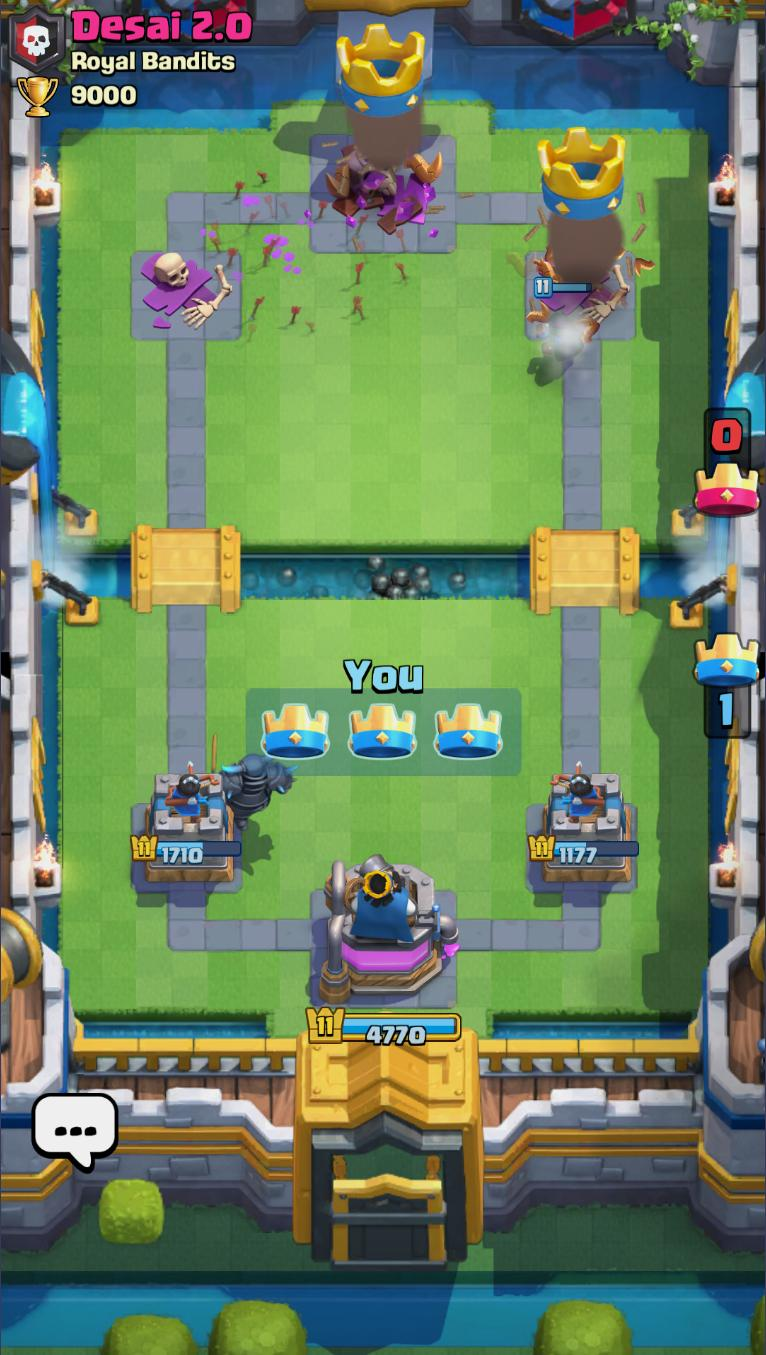Arrows: (205, 169, 412, 347)
EnemyTowerBrocken: (519, 247, 641, 345), (126, 246, 242, 341)
EnemyTowerBrockenCrown: (333, 26, 430, 121), (538, 130, 628, 226)
KingTowerBrocken: (314, 120, 455, 246)
MyBandit: (533, 278, 596, 365)
MyKingHP: (303, 1002, 464, 1046)
MyKingTower: (314, 850, 461, 1006)
MyPekka: (208, 735, 299, 830)
MyPrincessTower: (528, 769, 644, 886), (138, 767, 239, 881)
MyPrincessTowerHP: (528, 831, 644, 866), (130, 834, 243, 866)
